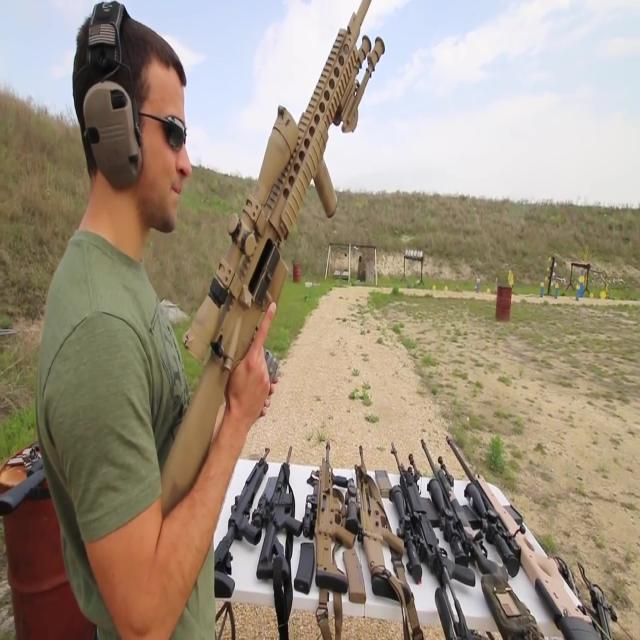Weapon: (172, 2, 386, 614), (200, 427, 615, 640), (0, 391, 96, 531)
